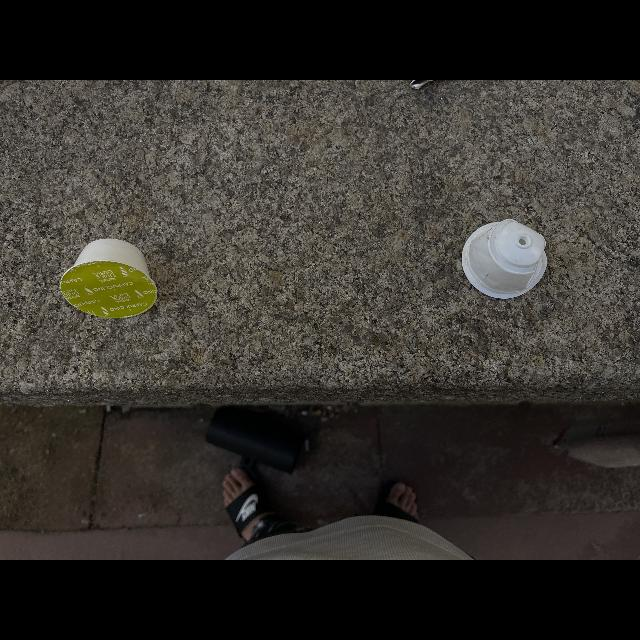damaged_capsule: (462, 206, 556, 304)
intact_capsule: (54, 227, 166, 319)
